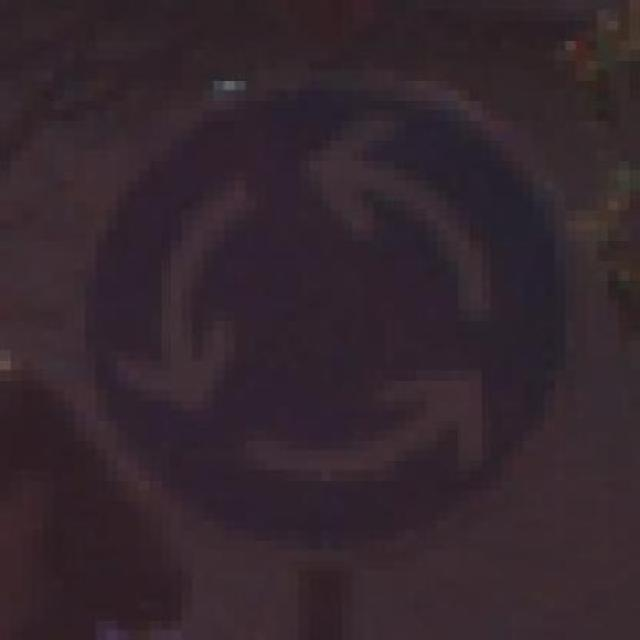Round-About: (53, 70, 587, 570)
